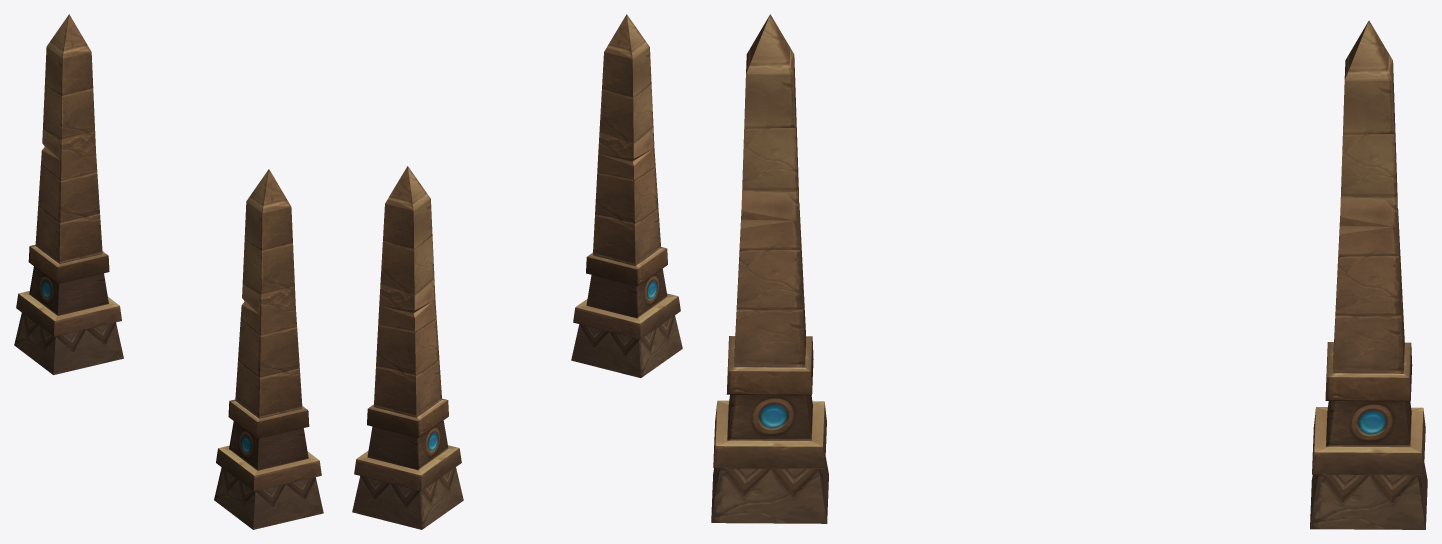
Rendered from Area_10_10.fbx.
3 renders of one model, left to right at view 1: azimuth 30°, elevation 25°; view 2: azimuth 150°, elevation 25°; view 3: azimuth 270°, elevation 25°, orthographic. The views are drawn at different scales.
Visible parts, largest first — view 1: Area_10_10; view 2: Area_10_10; view 3: Area_10_10.
Boxes of the visible parts, <box> form: Area_10_10: <box>14,14,323,529</box>; Area_10_10: <box>352,14,682,529</box>; Area_10_10: <box>711,14,1427,529</box>.
Size of the model in its own units: 361 by 1461 by 1955.
